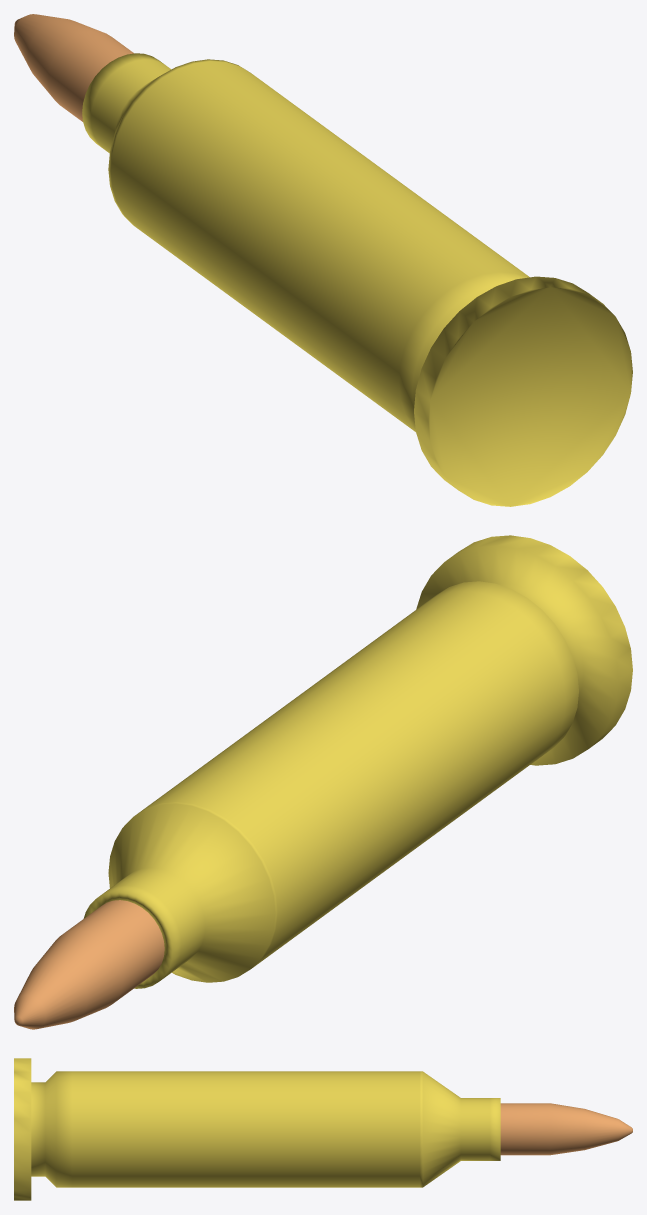
Rendered from bullet.glb.
3 renders of one model, top to bottom at view 1: azimuth 30°, elevation 25°; view 2: azimuth 150°, elevation 25°; view 3: azimuth 270°, elevation 25°, orthographic. The views are drawn at different scales.
Parts seen in each view (by area): view 1: Cylinder, Cylinder.001; view 2: Cylinder, Cylinder.001; view 3: Cylinder, Cylinder.001.
Boxes of the visible parts, x1,y1,x2,y2 form: Cylinder: [82, 53, 632, 506]; Cylinder.001: [14, 14, 133, 121]; Cylinder: [83, 535, 632, 988]; Cylinder.001: [14, 900, 164, 1029]; Cylinder: [14, 1058, 500, 1200]; Cylinder.001: [500, 1103, 632, 1155].
Size of the model in its own units: 0.2681 by 0.2681 by 1.16.
